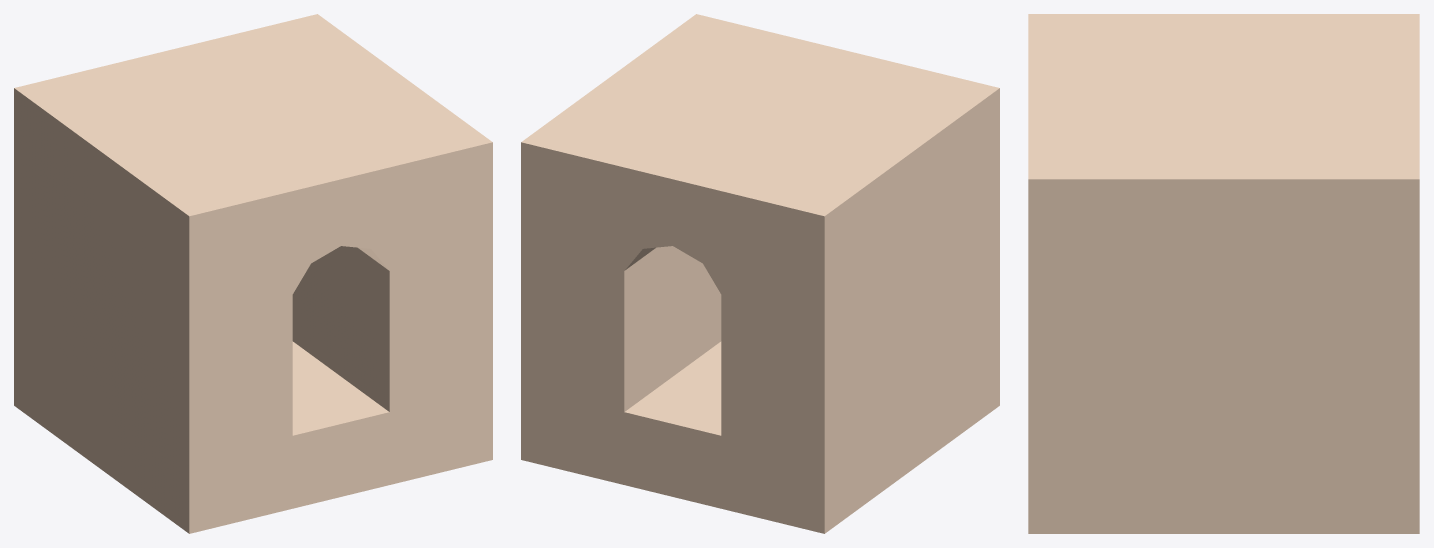
The model's file is Abstract_Castle_Block_Single_SingleWindowSmall_Cream_01.fbx.
The picture shows the model from 3 angles, left to right: view 1: azimuth 30°, elevation 25°; view 2: azimuth 150°, elevation 25°; view 3: azimuth 270°, elevation 25°; orthographic projection. The views are drawn at different scales.
Parts seen in each view (by area): view 1: Model; view 2: Model; view 3: Model.
Part boxes in pixels (x1,y1,x2,y2): Model: (14,14,492,533); Model: (521,14,999,533); Model: (1028,14,1419,533).
Bounding box in the file's own units: 1000 × 1000 × 1000.
